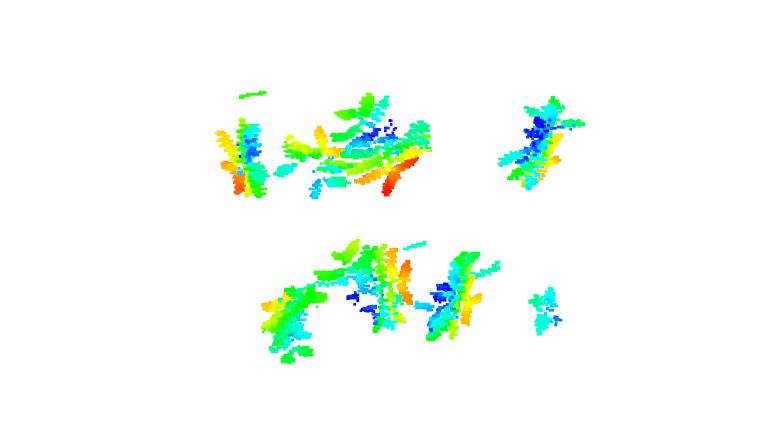chickpea: (332, 95, 429, 196), (495, 95, 590, 191), (315, 235, 408, 332), (416, 248, 503, 344), (270, 126, 351, 199), (258, 282, 328, 365), (212, 117, 273, 200), (525, 284, 563, 335)
